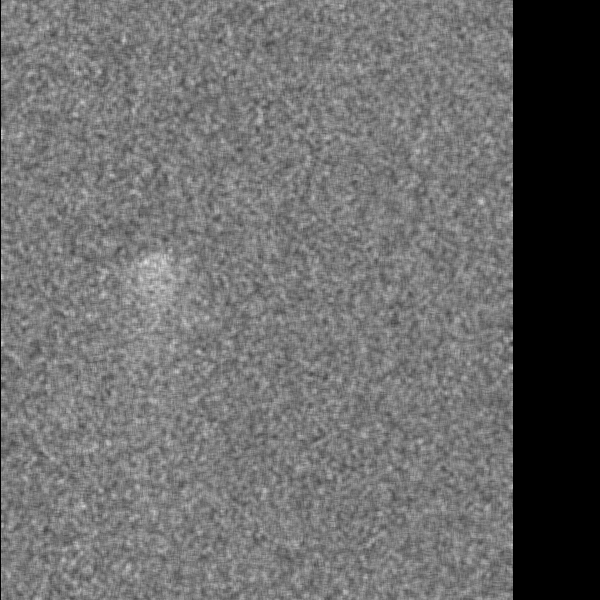spark: (262, 212, 311, 262), (133, 252, 183, 275)
